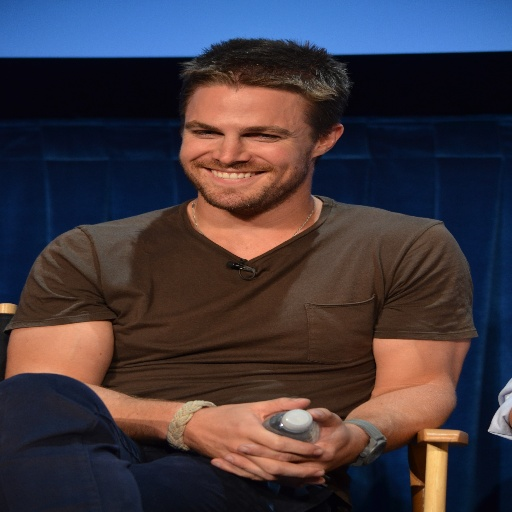hand: (207, 407, 356, 483)
